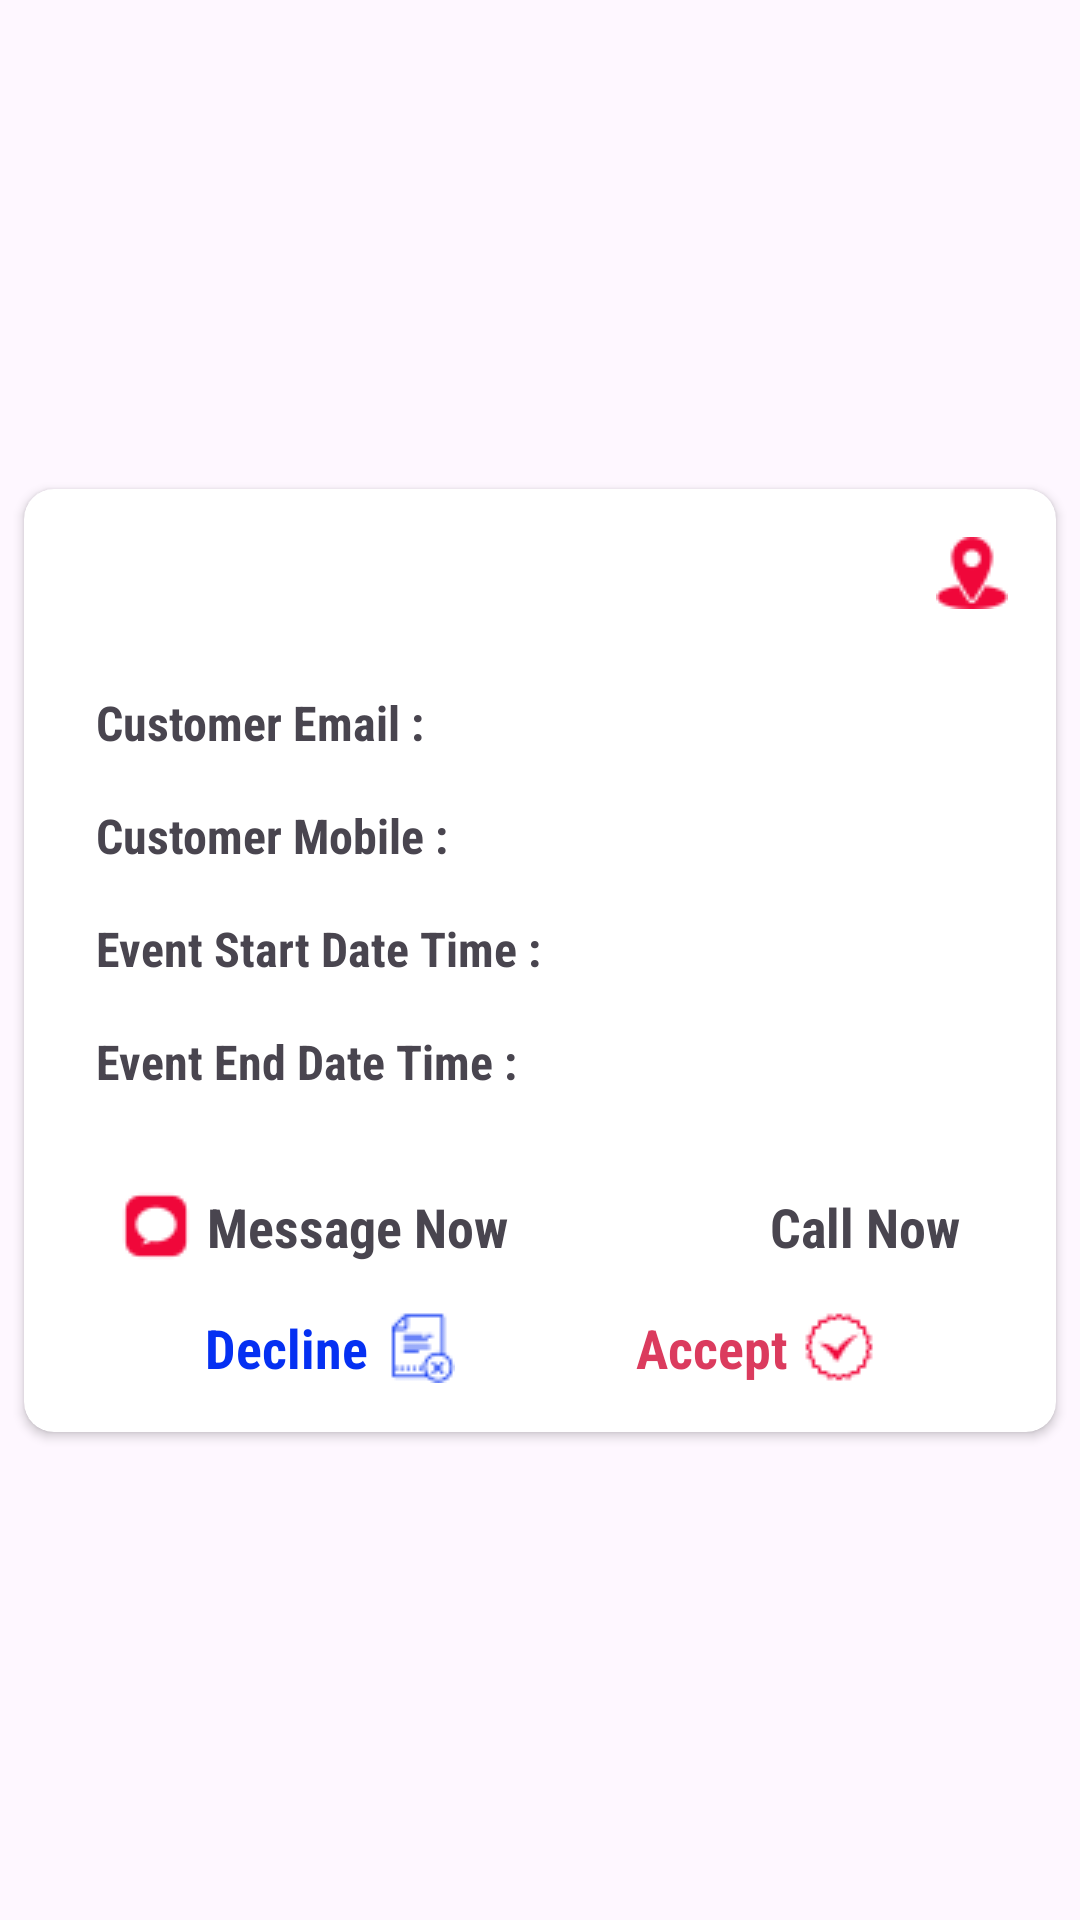

Screen size 1080×1920. Icon name, then its center in pixels as (x,y):
location: (972,573)
